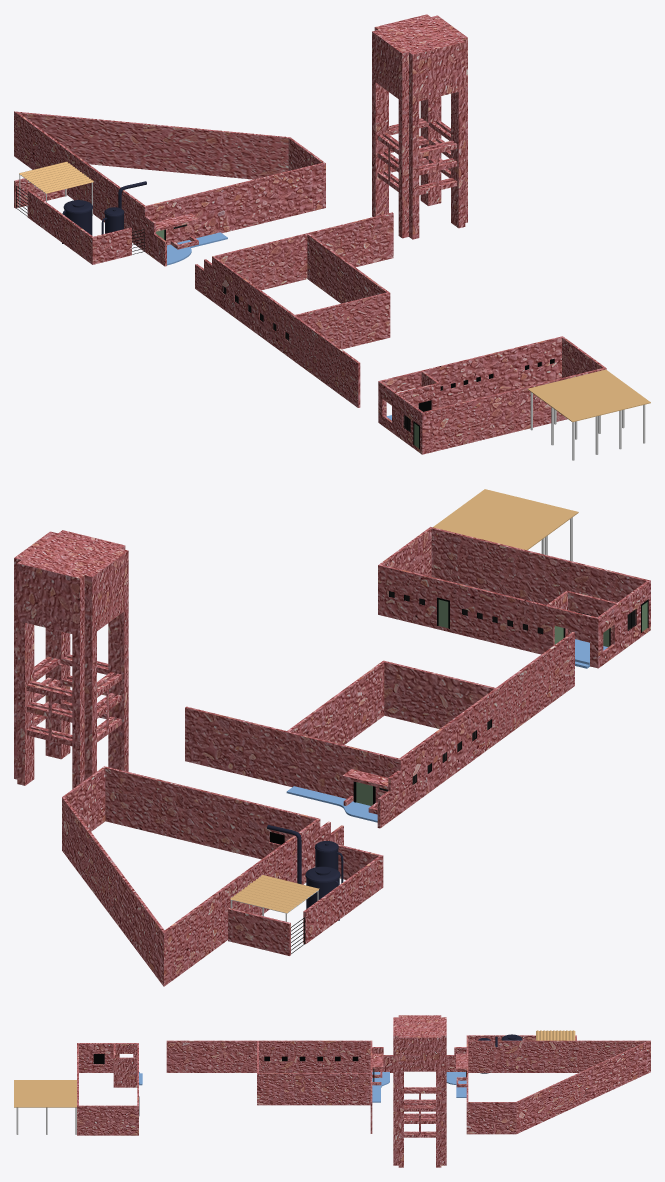
Rendered from wtp.fbx.
The picture shows the model from 3 angles, top to bottom: view 1: azimuth 30°, elevation 25°; view 2: azimuth 150°, elevation 25°; view 3: azimuth 270°, elevation 25°; orthographic projection. The views are drawn at different scales.
Parts seen in each view (by area): view 1: Vert.007, Plane.028, Plane.008, Vert.008, Plane.011, Plane.019, Cylinder.002, Cylinder.001, Circle; view 2: Vert.007, Plane.028, Plane.008, Vert.008, Plane.011, Plane.019, BezierCurve, Cylinder.001; view 3: Vert.007, Plane.028, Plane.008, Plane.011, Plane.019, Circle, BezierCurve, Vert.008.
Part boxes in pixels (x1,y1,x2,y2): Vert.007: (14, 111, 393, 407); Plane.028: (372, 14, 467, 239); Plane.008: (378, 336, 606, 454); Vert.008: (14, 178, 131, 264); Plane.011: (527, 369, 650, 422); Plane.019: (19, 161, 93, 193); Cylinder.002: (530, 392, 645, 460); Cylinder.001: (63, 200, 92, 235); Circle: (167, 232, 227, 265); Vert.007: (62, 632, 574, 986); Plane.028: (14, 530, 128, 789); Plane.008: (378, 527, 650, 668); Vert.008: (228, 844, 383, 955); Plane.011: (433, 489, 578, 550); Plane.019: (230, 875, 319, 913); BezierCurve: (286, 786, 377, 822); Cylinder.001: (305, 866, 340, 908); Vert.007: (166, 1040, 650, 1134); Plane.028: (393, 1015, 446, 1167); Plane.008: (77, 1043, 138, 1135); Plane.011: (14, 1080, 76, 1107); Plane.019: (536, 1030, 575, 1040); Circle: (446, 1072, 466, 1097); BezierCurve: (372, 1072, 389, 1102); Vert.008: (466, 1035, 576, 1040).
Bounding box in the file's own units: 3057 × 1696 × 7330.
8 materials, 1 textured.
